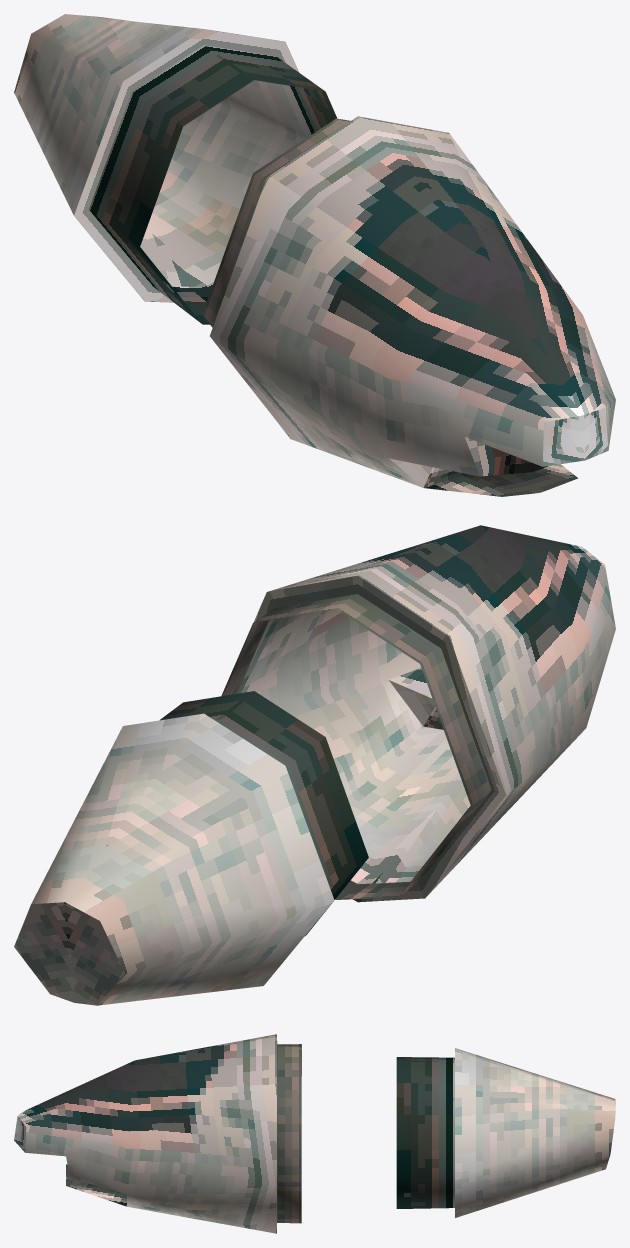
File: bwing_cockpit_pod_l2.fbx
3 renders of one model, top to bottom at view 1: azimuth 30°, elevation 25°; view 2: azimuth 150°, elevation 25°; view 3: azimuth 270°, elevation 25°, orthographic. The views are drawn at different scales.
Parts seen in each view (by area): view 1: mesh_node; view 2: mesh_node; view 3: mesh_node.
Boxes of the visible parts, box(x1,y1,x2,y2) form: mesh_node: box(14, 14, 615, 496); mesh_node: box(14, 525, 615, 1005); mesh_node: box(14, 1034, 615, 1233).
Bounding box in the file's own units: 1.68 × 1.77 × 5.11.
Materials: 1 (1 with a texture image).
